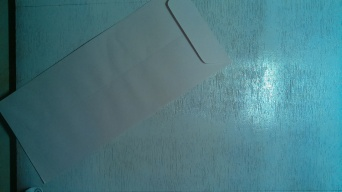l: (17, 1, 218, 181)
